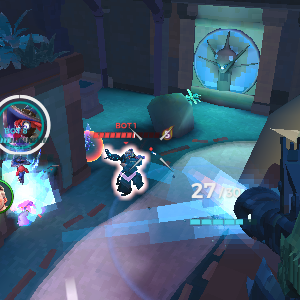model: (109, 144, 147, 195)
